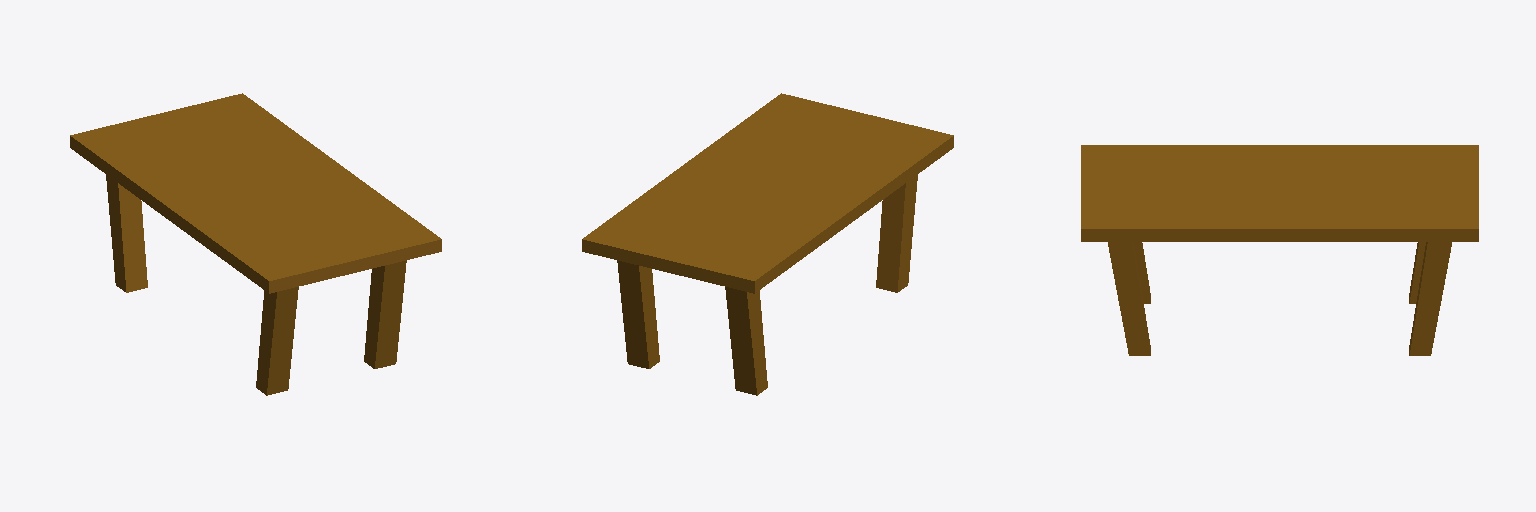
File: newscene.obj
The picture shows the model from 3 angles: view 1: azimuth 30°, elevation 25°; view 2: azimuth 150°, elevation 25°; view 3: azimuth 270°, elevation 25°; orthographic projection.
Parts seen in each view (by area): view 1: cube91; view 2: cube91; view 3: cube91.
Boxes of the visible parts, x1=… form: cube91: x1=70, y1=93, x2=441, y2=395; cube91: x1=582, y1=93, x2=953, y2=395; cube91: x1=1081, y1=145, x2=1478, y2=355.
Size of the model in its own units: 256 by 194 by 512.